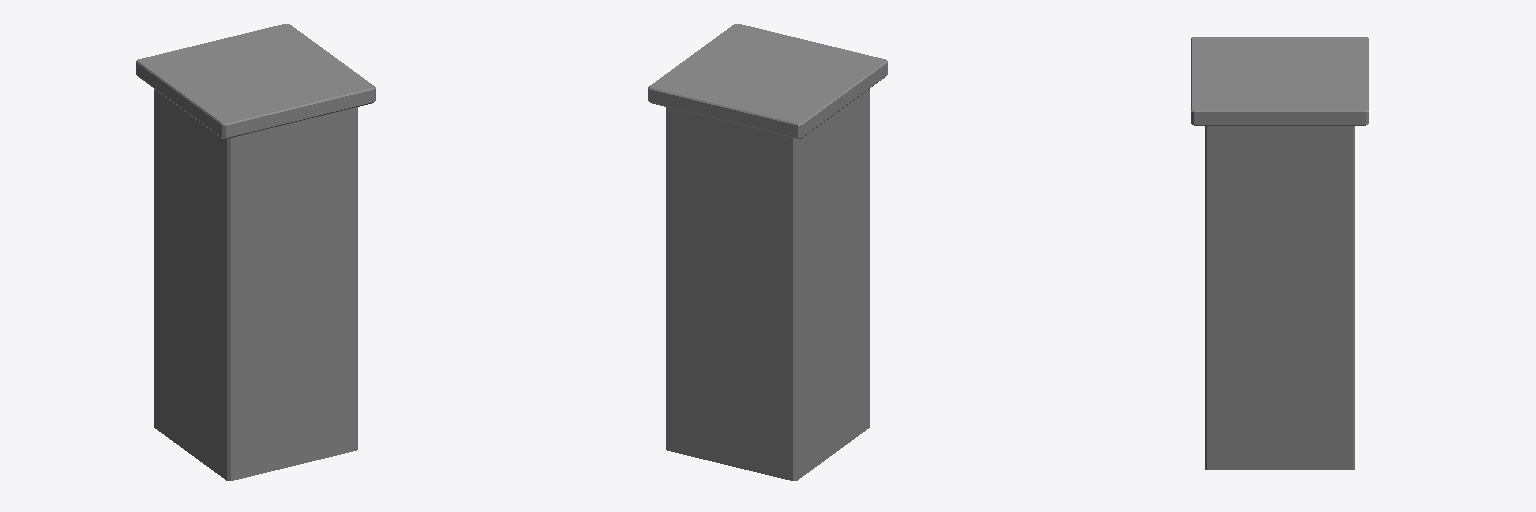
The model's file is StoneWallPost48.obj.
3 views of the same model, side by side, from view 1: azimuth 30°, elevation 25°; view 2: azimuth 150°, elevation 25°; view 3: azimuth 270°, elevation 25° (orthographic).
Visible parts, largest first — view 1: Post; view 2: Post; view 3: Post.
Part boxes in pixels (bbox=[...]): Post: bbox=[136, 24, 375, 480]; Post: bbox=[648, 24, 887, 480]; Post: bbox=[1191, 37, 1368, 469].
Bounding box in the file's own units: 56.49 × 128 × 56.49.